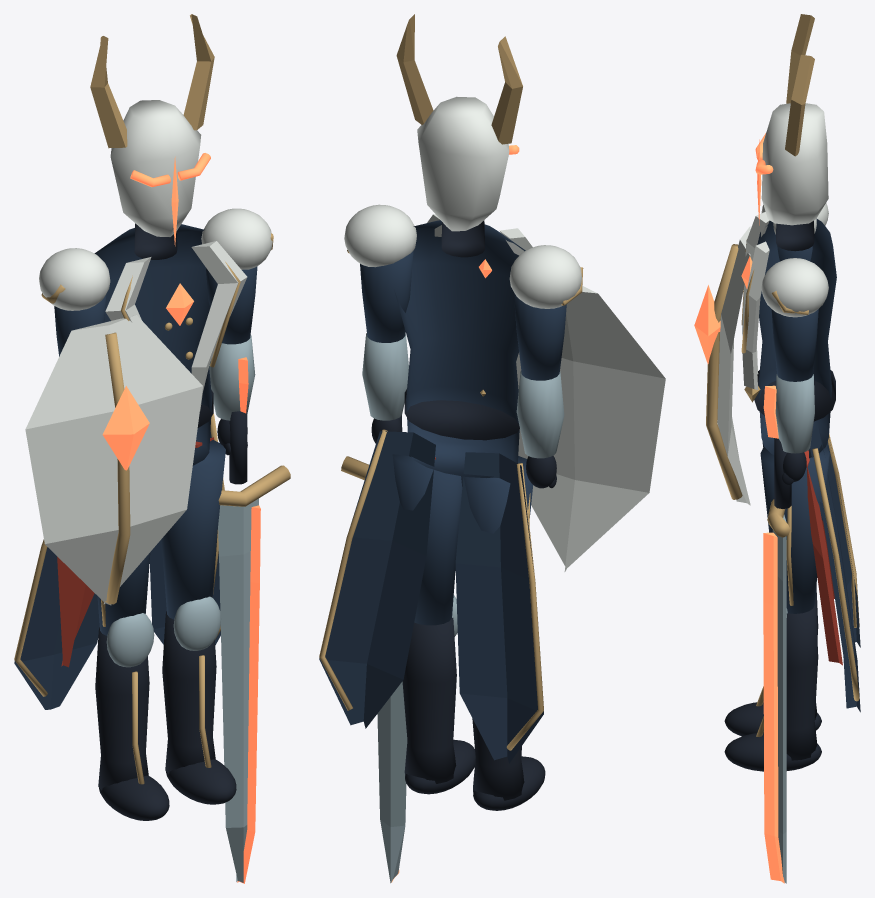
Rendered from warden.glb.
3 views of the same model, side by side, from view 1: azimuth 30°, elevation 25°; view 2: azimuth 150°, elevation 25°; view 3: azimuth 270°, elevation 25° (orthographic). The views are drawn at different scales.
Visible parts, largest first — view 1: kite shield, crossguard, belt clasp, crown horn, boot gold rail.001, boot gold rail, coat lining, fitted trousers.001, pauldron.001, shoulder edge.001, finger.005, fitted trousers (+1 smaller); view 2: belt clasp, kite shield, coat lining.001, coat lining, crown horn, boot gold rail.001, pauldron.001, shoulder edge.001, fitted trousers.001, crossguard, finger.001, finger.005 (+2 smaller); view 3: belt clasp, crown horn, crossguard, kite shield, boot gold rail.001, coat lining.001, shoulder edge.001, fitted trousers.001, finger.005, coat lining, boot gold rail, pauldron.001.
Part boxes in pixels (left/top/right/bottom): kite shield: left=25, top=315, right=202, bottom=605; crossguard: left=218, top=409, right=290, bottom=883; belt clasp: left=94, top=223, right=247, bottom=465; crown horn: left=90, top=14, right=214, bottom=246; boot gold rail.001: left=162, top=596, right=236, bottom=804; boot gold rail: left=95, top=613, right=169, bottom=820; coat lining: left=14, top=539, right=99, bottom=709; fitted trousers.001: left=161, top=440, right=225, bottom=619; pauldron.001: left=39, top=248, right=110, bottom=356; shoulder edge.001: left=201, top=208, right=273, bottom=344; finger.005: left=209, top=335, right=255, bottom=455; fitted trousers: left=97, top=552, right=150, bottom=635; belt clasp: left=394, top=214, right=532, bottom=477; kite shield: left=516, top=286, right=665, bottom=571; coat lining.001: left=319, top=429, right=435, bottom=728; coat lining: left=455, top=452, right=543, bottom=763; crown horn: left=396, top=14, right=522, bottom=231; boot gold rail.001: left=402, top=594, right=475, bottom=794; pauldron.001: left=509, top=245, right=583, bottom=380; shoulder edge.001: left=344, top=204, right=416, bottom=342; fitted trousers.001: left=392, top=454, right=462, bottom=625; crossguard: left=341, top=415, right=407, bottom=883; finger.001: left=516, top=371, right=564, bottom=488; finger.005: left=362, top=333, right=408, bottom=443; belt clasp: left=741, top=212, right=836, bottom=458; crown horn: left=755, top=14, right=828, bottom=225; crossguard: left=763, top=438, right=791, bottom=883; kite shield: left=694, top=226, right=750, bottom=505; boot gold rail.001: left=724, top=603, right=821, bottom=771; coat lining.001: left=804, top=425, right=860, bottom=712; shoulder edge.001: left=761, top=258, right=828, bottom=381; fitted trousers.001: left=760, top=447, right=829, bottom=613; finger.005: left=763, top=374, right=814, bottom=484; coat lining: left=822, top=433, right=860, bottom=647; boot gold rail: left=724, top=585, right=821, bottom=736; pauldron.001: left=761, top=203, right=828, bottom=261.
Bounding box in the file's own units: 0.9786 × 2.8 × 0.518.
